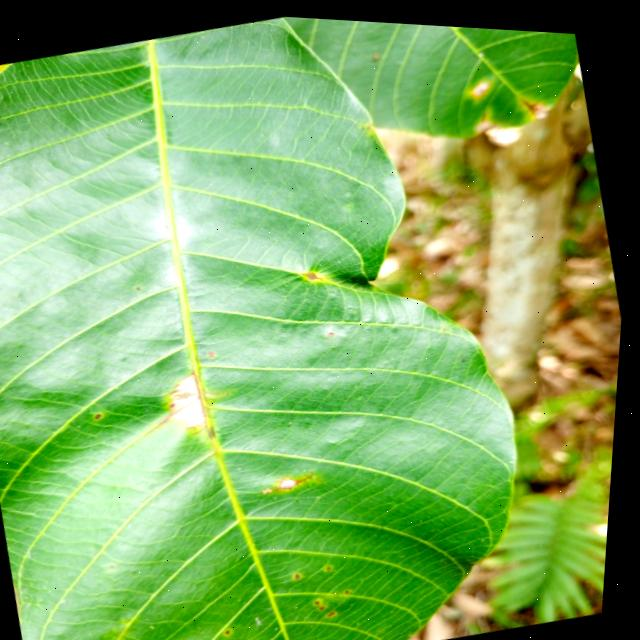Colletotrichum: (99, 411, 108, 418), (212, 347, 219, 355), (302, 568, 309, 576), (174, 400, 182, 405), (352, 584, 358, 590), (233, 625, 239, 631), (326, 601, 333, 606), (322, 595, 328, 600), (333, 561, 338, 566)
Corynespora: (274, 466, 321, 492)
Leaf-Blight: (168, 367, 216, 429)
